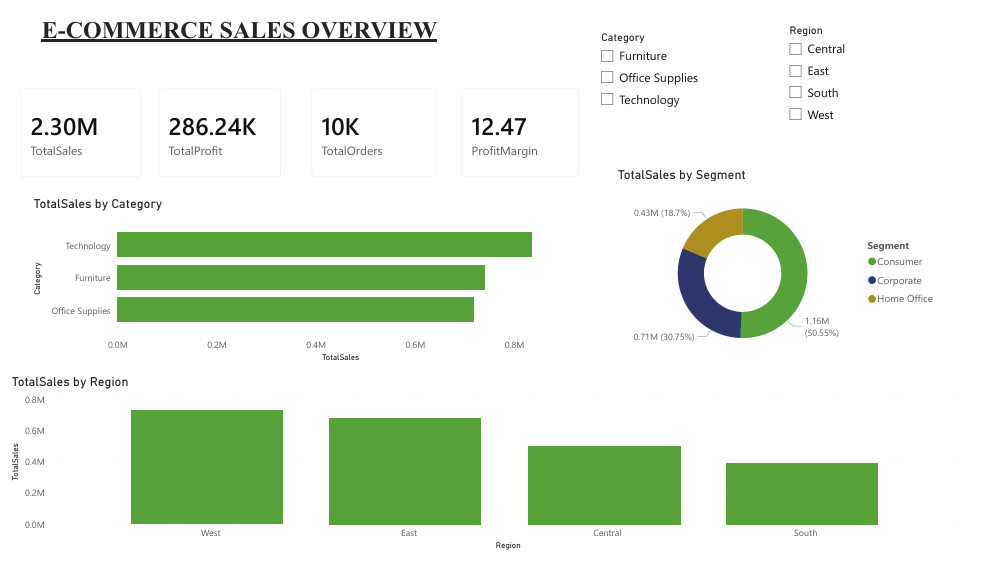

Layout of this report page (visuals, bound fields, positions):
{"tool":"powerbi","page":{"name":"Overview","canvas":[1280,720],"ordinal":0},"visuals":[{"type":"cardVisual","fields":{"Data":["ecom sales.TotalSales"]},"box":[0,84.2,195.4,151.6],"z":0},{"type":"cardVisual","fields":{"Data":["ecom sales.TotalProfit"]},"box":[183.6,84.2,197.1,151.6],"z":1000},{"type":"cardVisual","fields":{"Data":["ecom sales.TotalOrders"]},"box":[388,84,199.9,151.2],"z":2000},{"type":"cardVisual","fields":{"Data":["ecom sales.ProfitMargin"]},"box":[587.9,84,189.8,151.2],"z":3000},{"type":"clusteredBarChart","fields":{"Category":["ecom sales.Category"],"Y":["ecom sales.TotalSales"]},"box":[28.6,244.2,730.9,225.7],"z":4000},{"type":"donutChart","fields":{"Category":["ecom sales.Segment"],"Y":["ecom sales.TotalSales"]},"box":[808.4,205.5,439.6,264.4],"z":5000},{"type":"clusteredColumnChart","fields":{"Category":["ecom sales.Region"],"Y":["ecom sales.TotalSales"]},"box":[0,481.7,1280,239.2],"z":6000},{"type":"slicer","fields":{"Values":["ecom sales.Category"]},"box":[778.1,18.5,259.4,148.2],"z":7000},{"type":"slicer","fields":{"Values":["ecom sales.Region"]},"box":[1029.1,10.1,250.9,183.6],"z":8000},{"type":"textbox","box":[0,0,624.8,84.2],"z":9000}]}

Visuals, with their boxes in screenshot pixels (x1, y1, x2, y2), scaled from the page's 1280x720 canvas onto the 981x568 screenshot:
cardVisual - ecom sales.TotalSales: 0 66 150 186
cardVisual - ecom sales.TotalProfit: 141 66 292 186
cardVisual - ecom sales.TotalOrders: 297 66 451 186
cardVisual - ecom sales.ProfitMargin: 451 66 596 186
clusteredBarChart - ecom sales.Category x ecom sales.TotalSales: 22 193 582 371
donutChart - ecom sales.Segment x ecom sales.TotalSales: 620 162 956 371
clusteredColumnChart - ecom sales.Region x ecom sales.TotalSales: 0 380 980 567
slicer - ecom sales.Category: 596 15 795 132
slicer - ecom sales.Region: 789 8 980 153
textbox: 0 0 479 66
